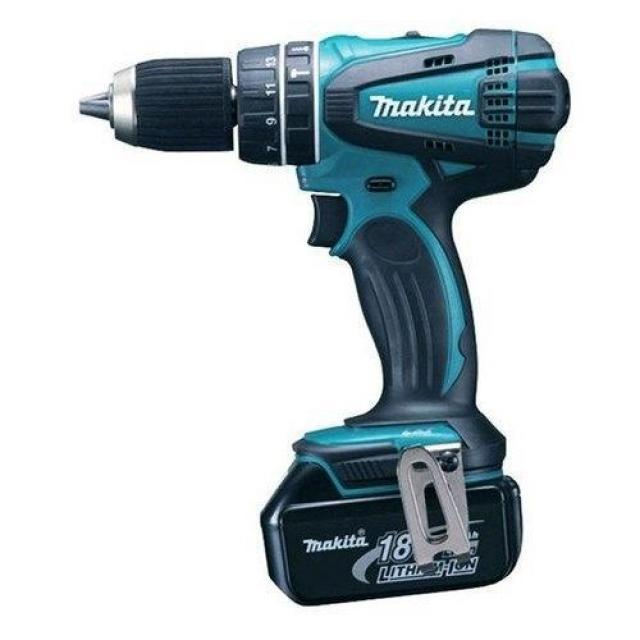drill: (79, 28, 572, 607)
